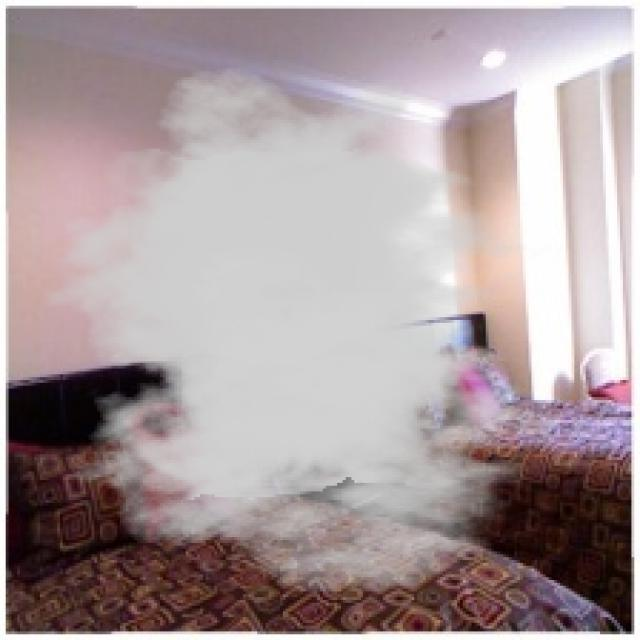smoke: (34, 66, 583, 594)
